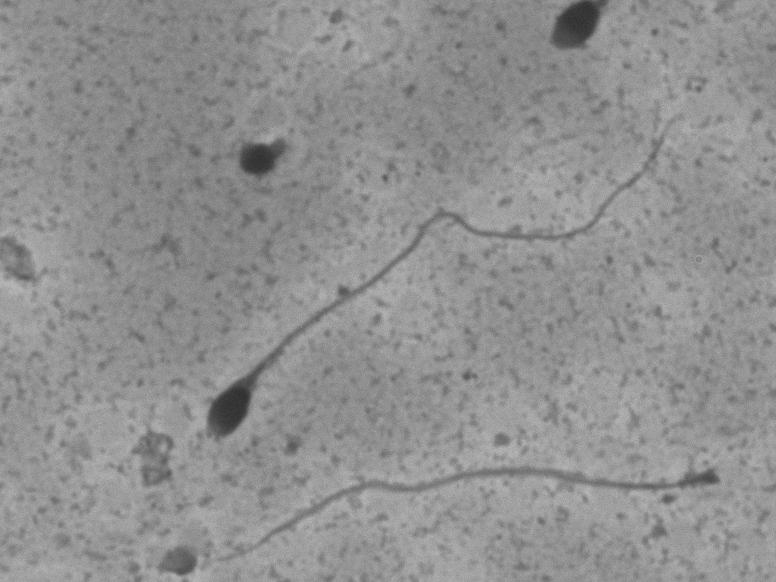Normal: (176, 96, 690, 453)
